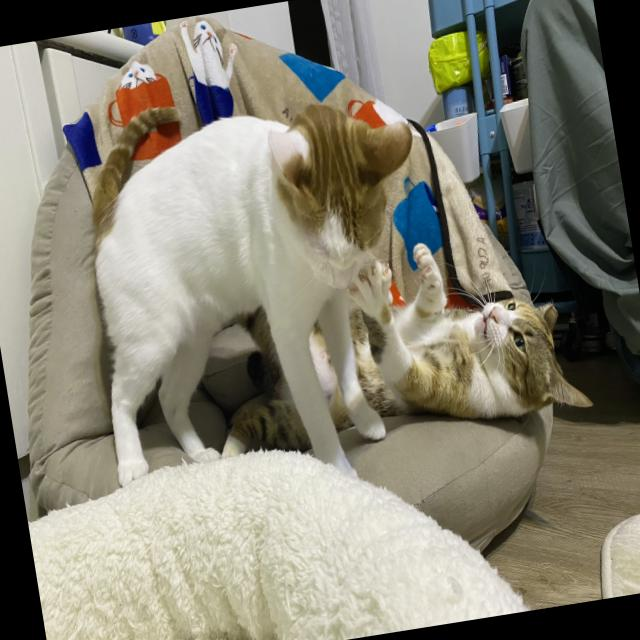cat1: (65, 93, 455, 485)
cat2: (316, 224, 586, 448)
